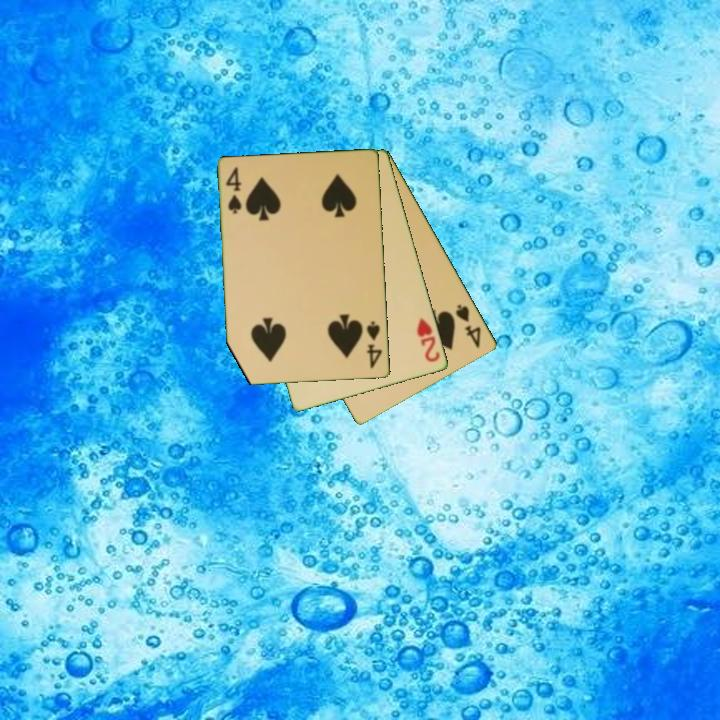2h: (414, 314, 443, 365)
4s: (452, 301, 484, 351), (363, 318, 385, 372), (223, 164, 244, 217)
